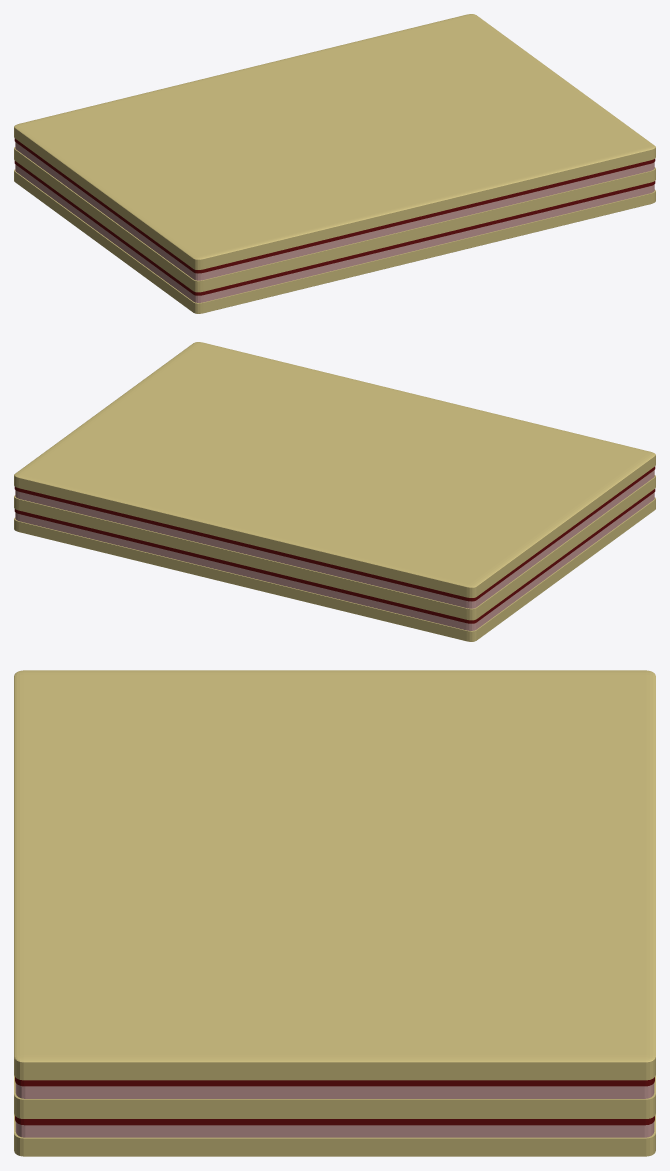
The model's file is sheet_18x26.glb.
The picture shows the model from 3 angles, top to bottom: view 1: azimuth 30°, elevation 25°; view 2: azimuth 150°, elevation 25°; view 3: azimuth 270°, elevation 25°; orthographic projection. The views are drawn at different scales.
Parts seen in each view (by area): view 1: 18x26_Cake, 18x26_Frosting, 18x26_Filling; view 2: 18x26_Cake, 18x26_Frosting, 18x26_Filling; view 3: 18x26_Cake, 18x26_Frosting, 18x26_Filling.
Part boxes in pixels (<box>): 18x26_Cake: <box>14,14,655,313</box>; 18x26_Frosting: <box>15,142,654,302</box>; 18x26_Filling: <box>14,138,655,295</box>; 18x26_Cake: <box>14,342,655,641</box>; 18x26_Frosting: <box>15,470,654,630</box>; 18x26_Filling: <box>14,466,655,623</box>; 18x26_Cake: <box>14,670,655,1156</box>; 18x26_Frosting: <box>15,1083,654,1137</box>; 18x26_Filling: <box>15,1077,654,1125</box>.
Bounding box in the file's own units: 52 × 6 × 36.
